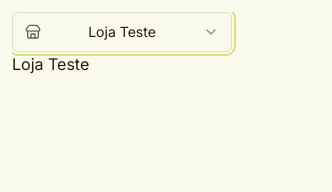
StoreSwitcher — voltar para a Conta › trocar de Loja continua como antes (e não passa pela Conta)
expect the text with test id "em-foco" reads "Loja Teste": met, box x1=12 y1=54 x2=89 y2=74
Press Enter
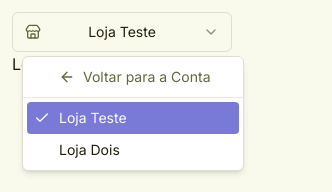
Click the option "Loja Dois" at (89,150), box x1=59 y1=141 x2=120 y2=158
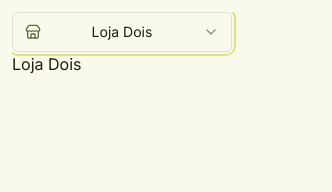
expect the text with test id "em-foco" reads "Loja Dois": met, box x1=12 y1=54 x2=82 y2=74
